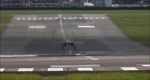maybay_muctieu: (52, 34, 85, 51)
